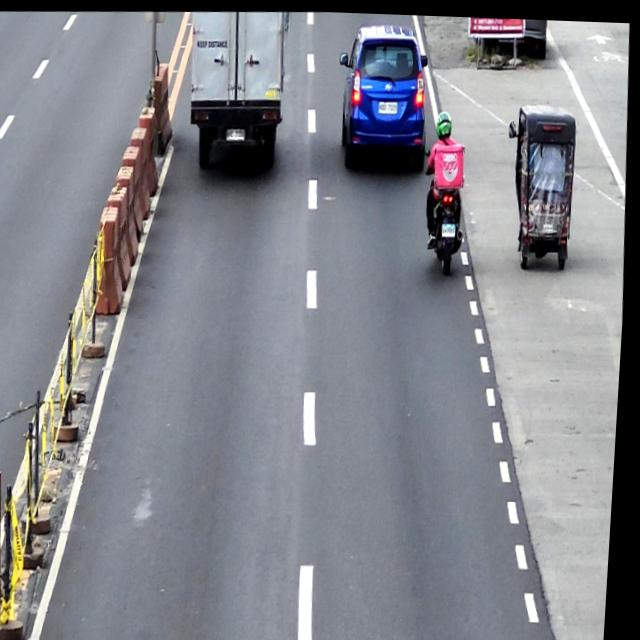Car: (333, 19, 434, 174)
E-bike: (501, 97, 584, 268)
License-Plate: (226, 125, 248, 140), (443, 218, 459, 234), (379, 98, 398, 111)
Motorcycle: (420, 141, 470, 275)
Truck: (184, 7, 296, 175)
